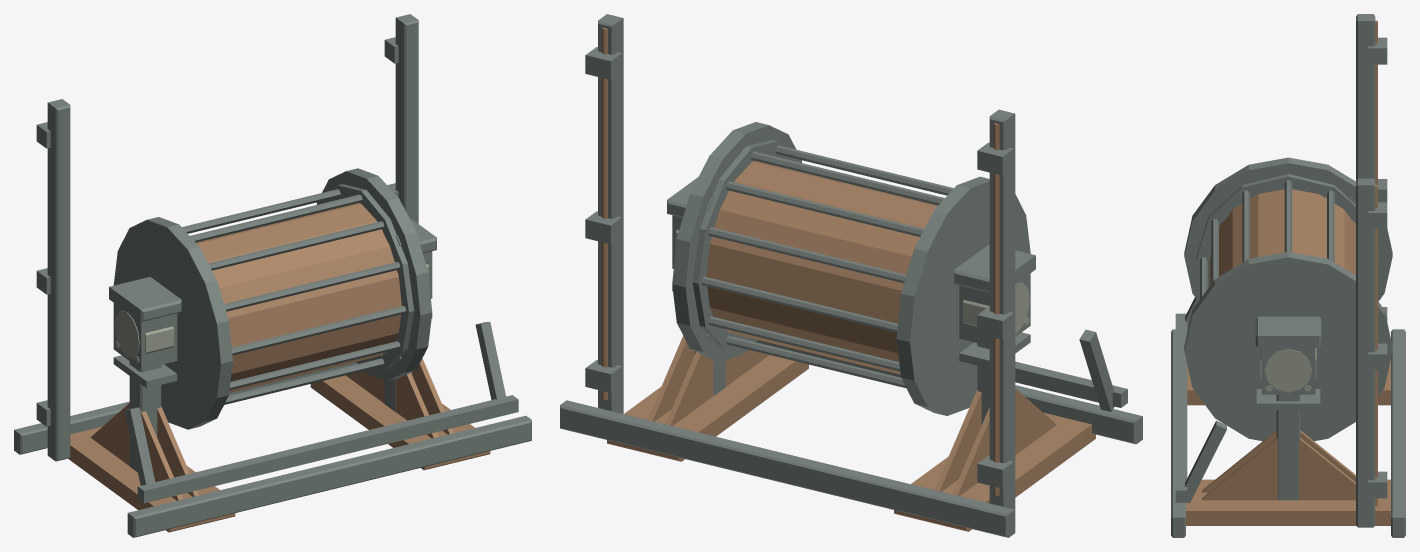
The model's file is ChainDrum.fbx.
3 views of the same model, side by side, from view 1: azimuth 30°, elevation 25°; view 2: azimuth 150°, elevation 25°; view 3: azimuth 270°, elevation 25° (orthographic). The views are drawn at different scales.
Visible parts, largest first — view 1: DrumRotor__Steel, Frame__Steel, DrumRotor__Rust, ChainGuides__Steel, Feet__Rust, Supports__Steel, Bearings__WornSteel; view 2: DrumRotor__Steel, DrumRotor__Rust, Frame__Steel, ChainGuides__Steel, Feet__Rust, Supports__Steel, HangingChains__Rust, Bearings__WornSteel; view 3: DrumRotor__Steel, ChainGuides__Steel, Feet__Rust, Frame__Steel, DrumRotor__Rust, Supports__Steel, Bearings__WornSteel, HangingChains__Rust.
Part boxes in pixels (x1,y1,x2,y2): DrumRotor__Steel: (113, 168, 432, 429); Frame__Steel: (14, 322, 531, 537); DrumRotor__Rust: (196, 203, 401, 392); ChainGuides__Steel: (36, 14, 418, 461); Feet__Rust: (68, 358, 490, 532); Supports__Steel: (109, 217, 436, 472); Bearings__WornSteel: (114, 264, 428, 363); DrumRotor__Steel: (672, 122, 1030, 415); DrumRotor__Rust: (706, 161, 937, 374); Frame__Steel: (560, 329, 1142, 537); ChainGuides__Steel: (585, 14, 1015, 509); Feet__Rust: (607, 336, 1095, 531); Supports__Steel: (667, 177, 1035, 424); HangingChains__Rust: (601, 27, 999, 495); Bearings__WornSteel: (675, 230, 1029, 334); DrumRotor__Steel: (1184, 157, 1392, 441); ChainGuides__Steel: (1356, 14, 1387, 527); Feet__Rust: (1186, 359, 1390, 525); Frame__Steel: (1171, 297, 1405, 537); DrumRotor__Rust: (1209, 189, 1355, 285); Supports__Steel: (1255, 316, 1321, 500); Bearings__WornSteel: (1260, 348, 1316, 395); HangingChains__Rust: (1375, 20, 1377, 506).
Size of what is drawn, in the model's own units: 3 by 2.6 by 1.58.
